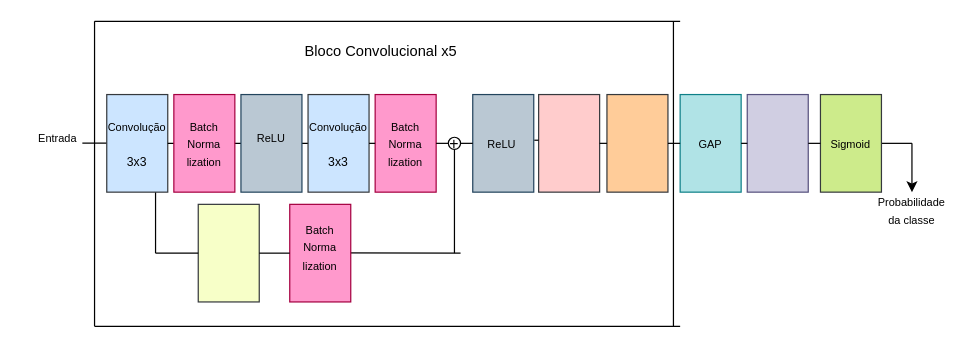
This 969x349 diagram has some shape labels left out. The centre of each missing label's shape, as x and y in pixels:
"Convolução 1x1" belongs at (228,252).
"Dropout" belongs at (777,142).
"Max-pooling" belongs at (637,142).
"SE" belongs at (568,142).
